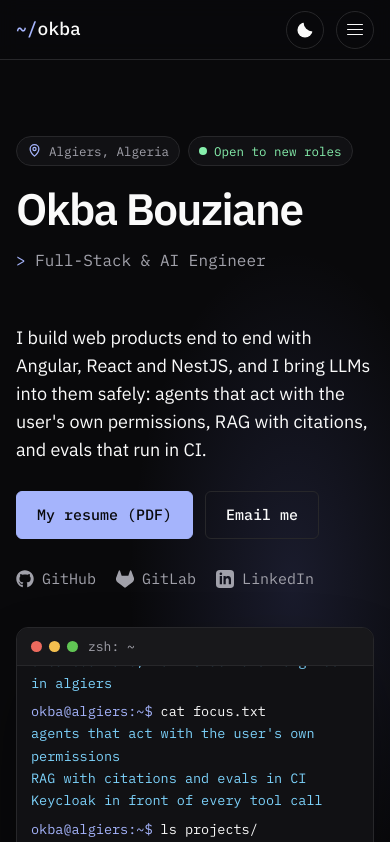
Test: the mobile menu opens and closes
(page scrolled)
Click the button named "open menu" at (355, 30), box [336,10,374,48]
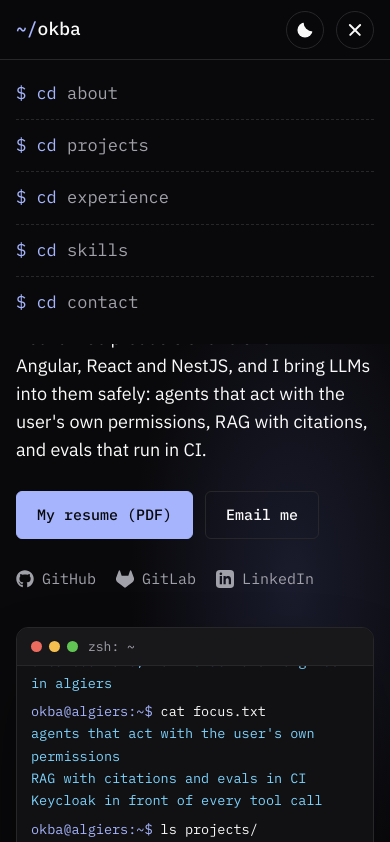
Check: the button named "open menu" is expanded, box [336,10,374,48]
Check: the number of links "contact" is 2
Press Escape
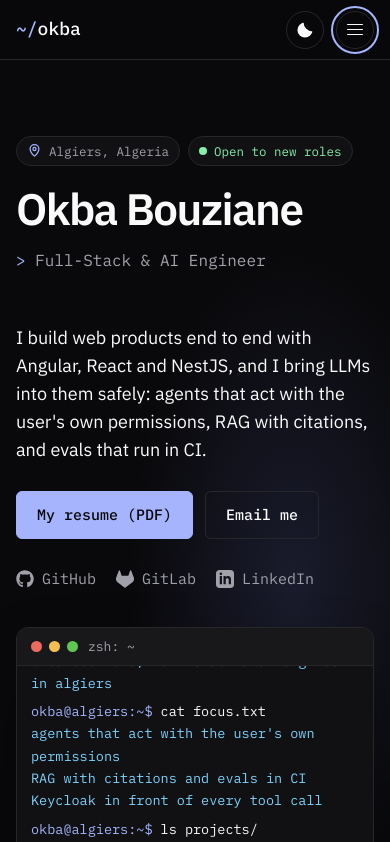
Check: the button named "open menu" is collapsed, box [336,10,374,48]
